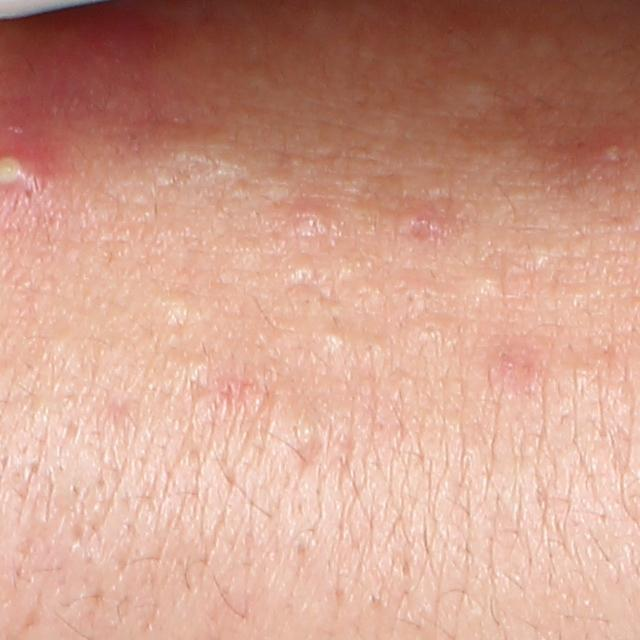comedo: (451, 73, 498, 117), (162, 291, 193, 322), (471, 271, 503, 301), (318, 326, 347, 354), (290, 258, 319, 281)
papule: (282, 200, 335, 252)
